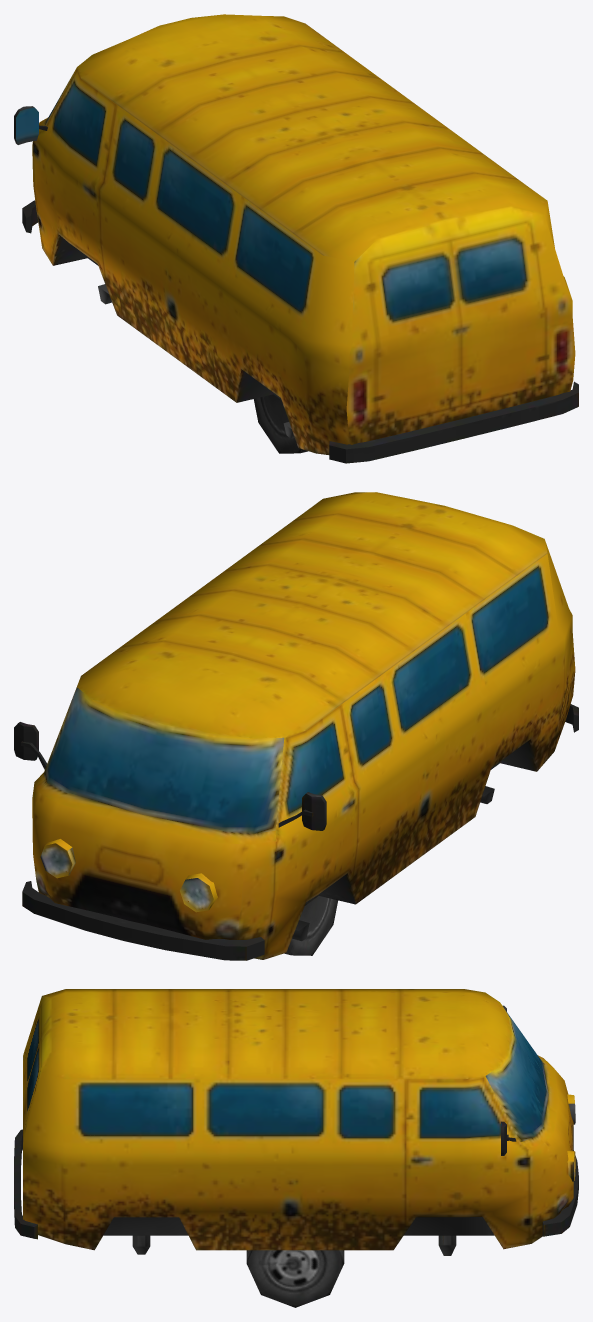
The model's file is uaz452.glb.
3 views of the same model, one above another, from view 1: azimuth 30°, elevation 25°; view 2: azimuth 150°, elevation 25°; view 3: azimuth 270°, elevation 25° (orthographic). The views are drawn at different scales.
Parts seen in each view (by area): view 1: body, wheel; view 2: body, wheel; view 3: body, wheel.
Boxes of the visible parts, left/top/right/bottom form: body: left=14, top=14, right=578, bottom=463; wheel: left=253, top=394, right=307, bottom=453; body: left=14, top=492, right=578, bottom=960; wheel: left=284, top=896, right=338, bottom=955; body: left=14, top=989, right=578, bottom=1255; wheel: left=246, top=1250, right=344, bottom=1307.
Bounding box in the file's own units: 2.28 × 2.41 × 4.36.
2 materials, 2 textured.
